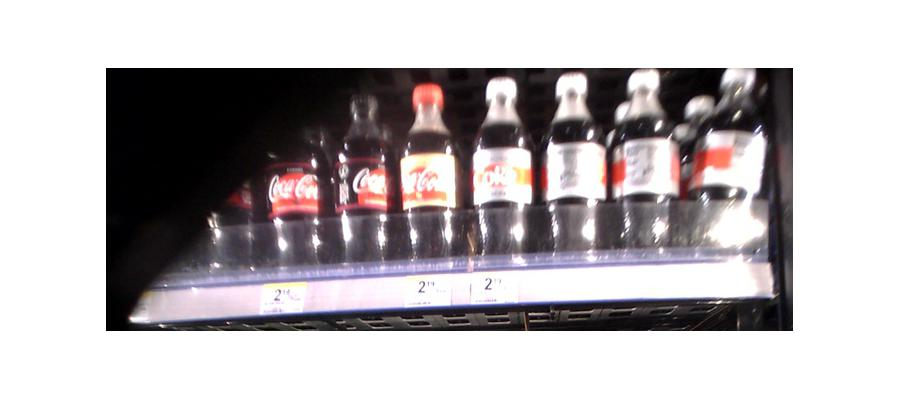bottle: (682, 70, 770, 257), (610, 70, 678, 257), (538, 77, 607, 257), (469, 80, 533, 262), (400, 87, 464, 265), (334, 88, 396, 266), (267, 122, 330, 266), (204, 150, 268, 274)
